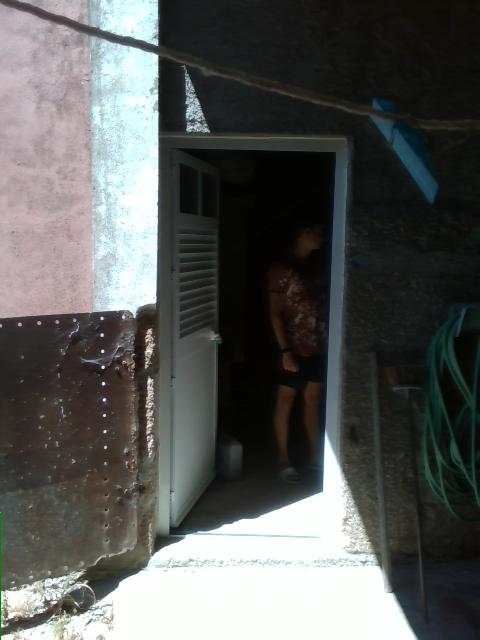semi_door: (157, 130, 348, 538)
